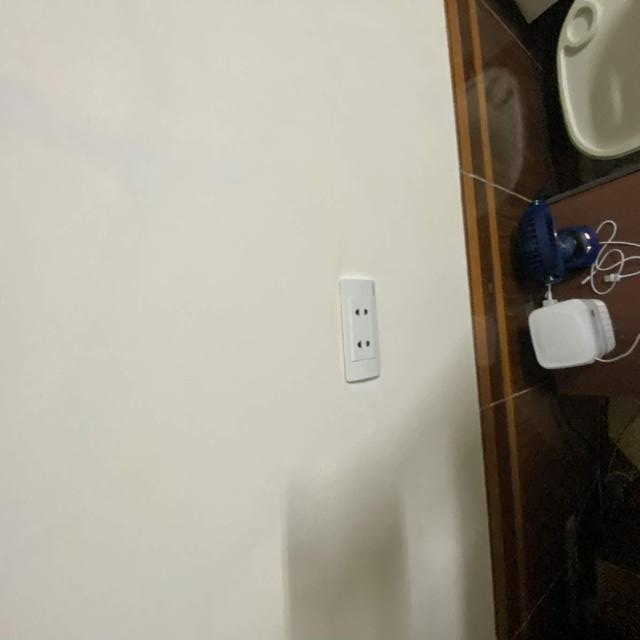outlet: (338, 278, 380, 384)
